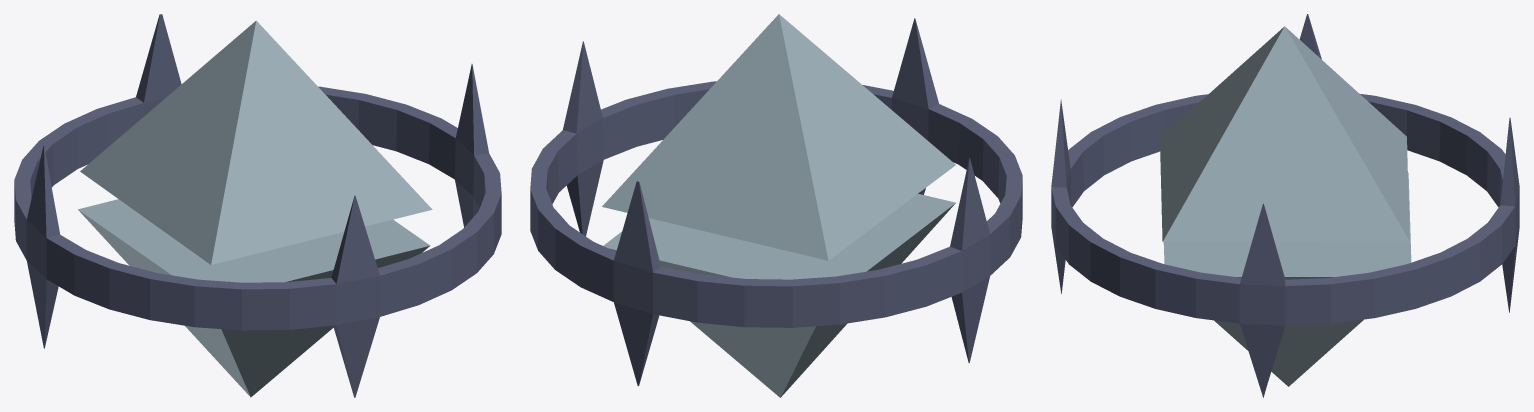
Rendered from bigblock01.fbx.
3 views of the same model, side by side, from view 1: azimuth 30°, elevation 25°; view 2: azimuth 150°, elevation 25°; view 3: azimuth 270°, elevation 25° (orthographic). The views are drawn at different scales.
Visible parts, largest first — view 1: Torus; view 2: Torus; view 3: Torus.
Boxes of the visible parts, x1=… form: Torus: x1=14, y1=14, x2=501, y2=397; Torus: x1=530, y1=14, x2=1022, y2=397; Torus: x1=1051, y1=14, x2=1519, y2=397.
Size of the model in its own units: 8.75 by 7.46 by 8.75.
